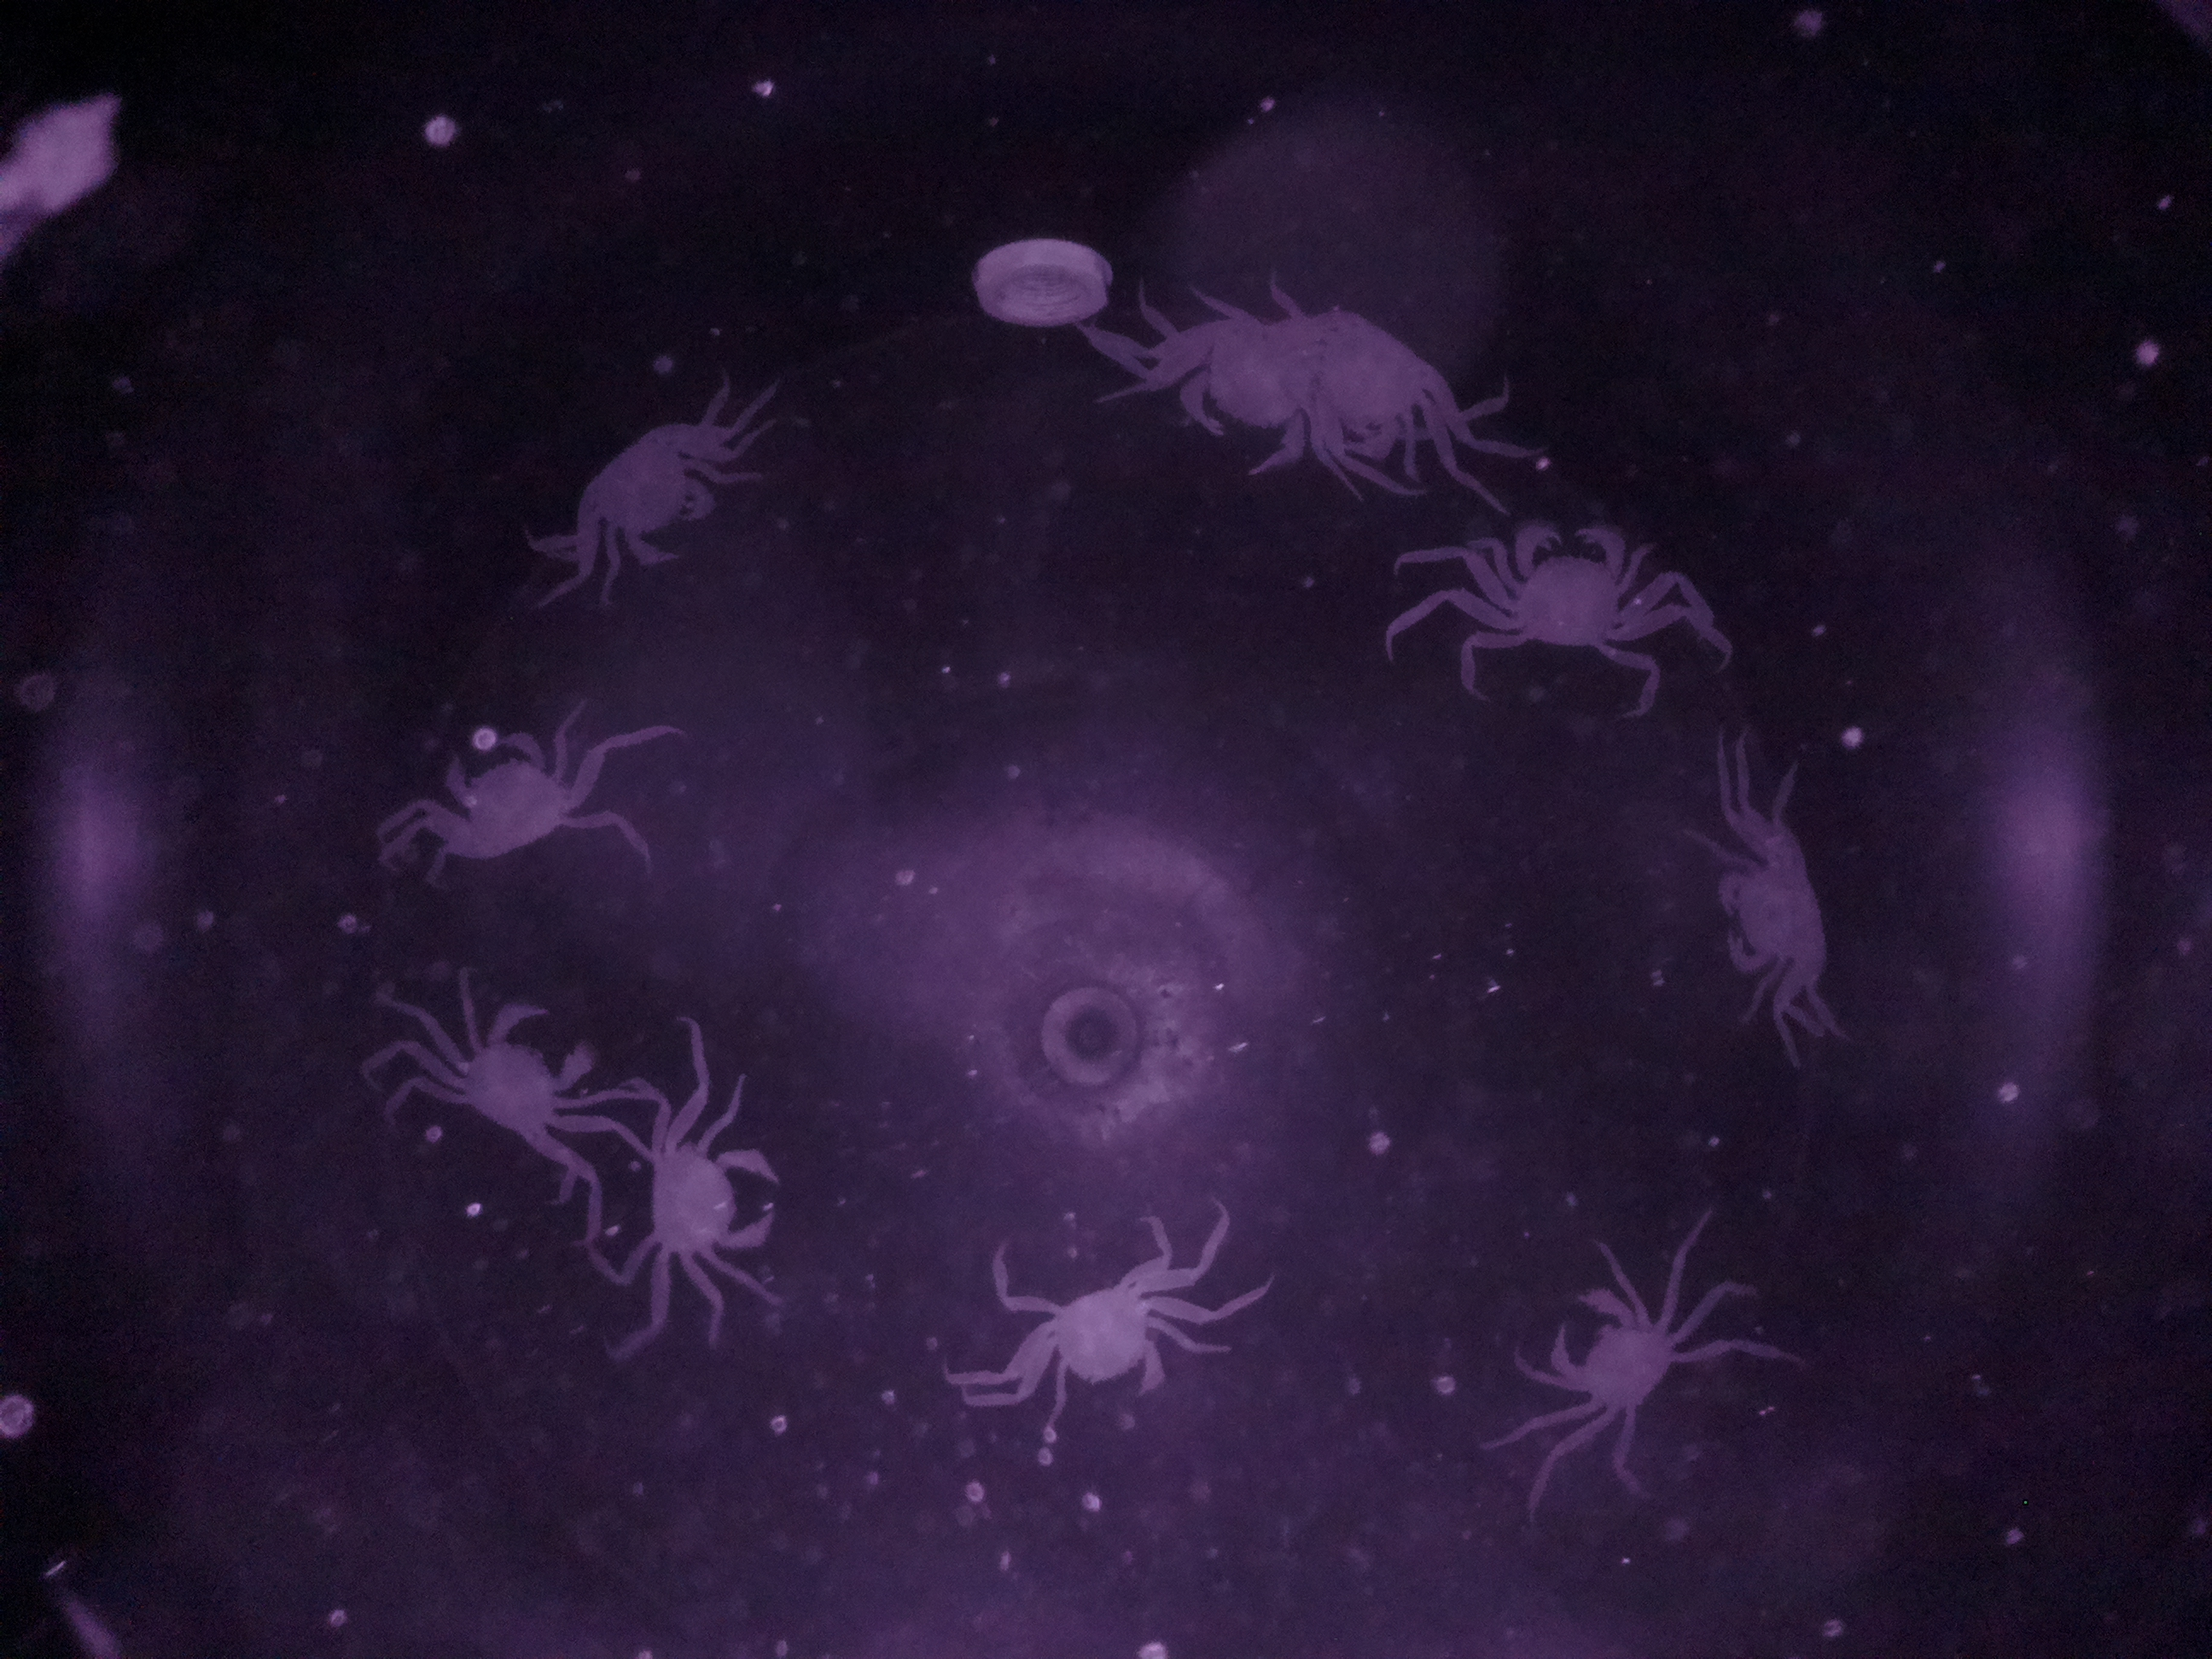Crab: (1494, 1263, 1717, 1450), (427, 976, 615, 1194), (984, 1244, 1183, 1432), (561, 406, 761, 589), (1693, 821, 1857, 1028), (1472, 497, 1669, 664), (620, 1105, 812, 1274), (418, 709, 592, 882)
